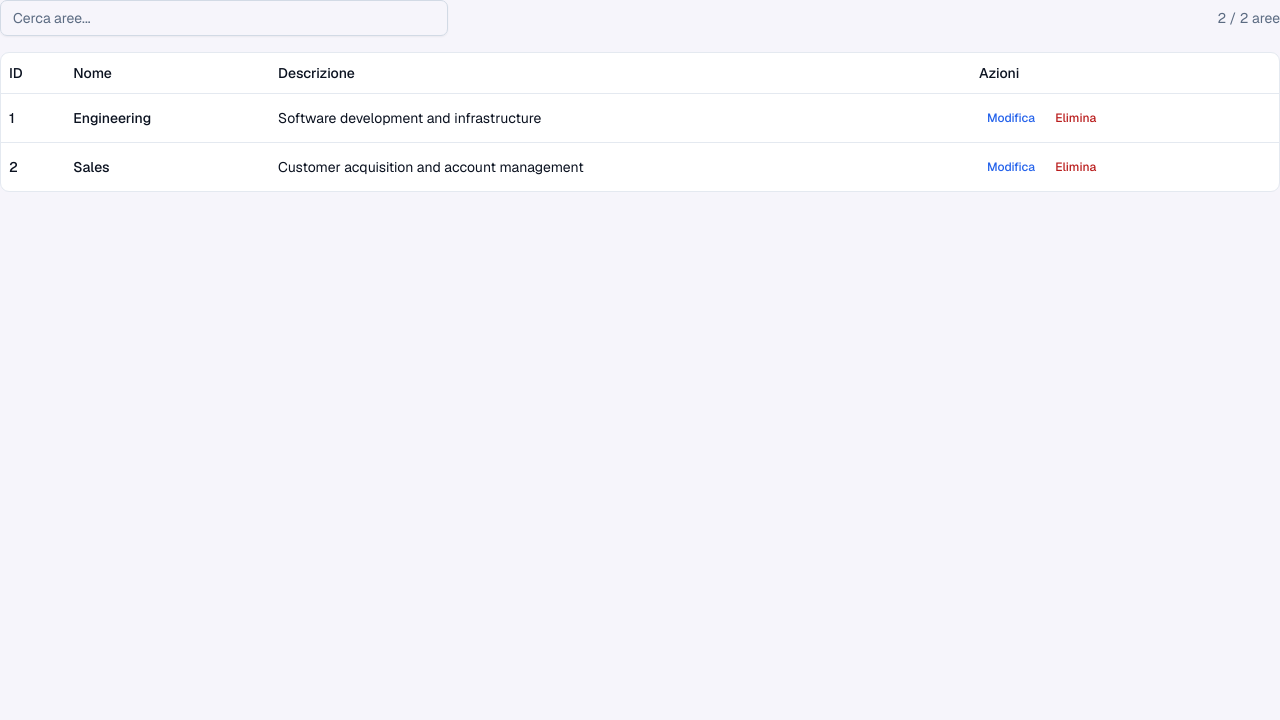
BusinessAreaTable › opens the delete confirmation dialog when Delete is clicked
Click the button "Elimina" in the row of "Engineering" at (1076, 118), box x1=1047 y1=102 x2=1104 y2=134
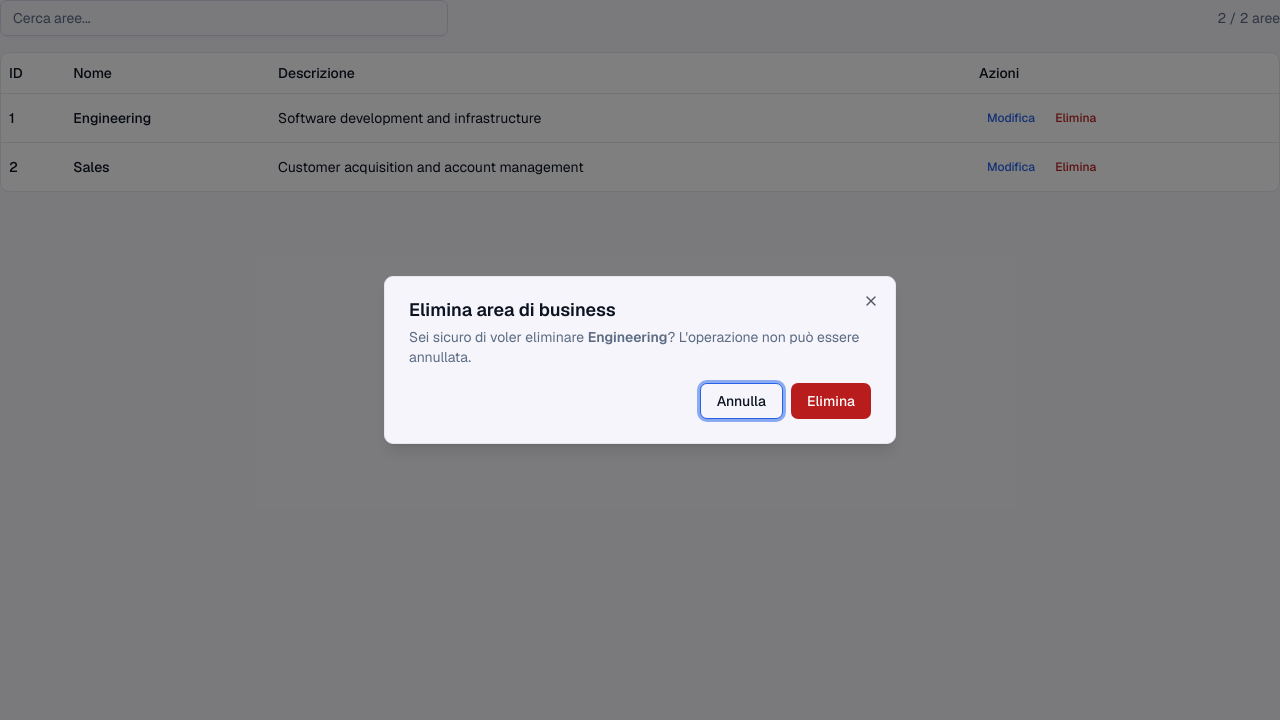
Expected: the dialog is shown, x1=384 y1=276 x2=896 y2=444
Expected: the text "Sei sicuro" is shown, x1=409 y1=328 x2=584 y2=346
Expected: the text "Engineering" is shown, x1=588 y1=328 x2=668 y2=346
